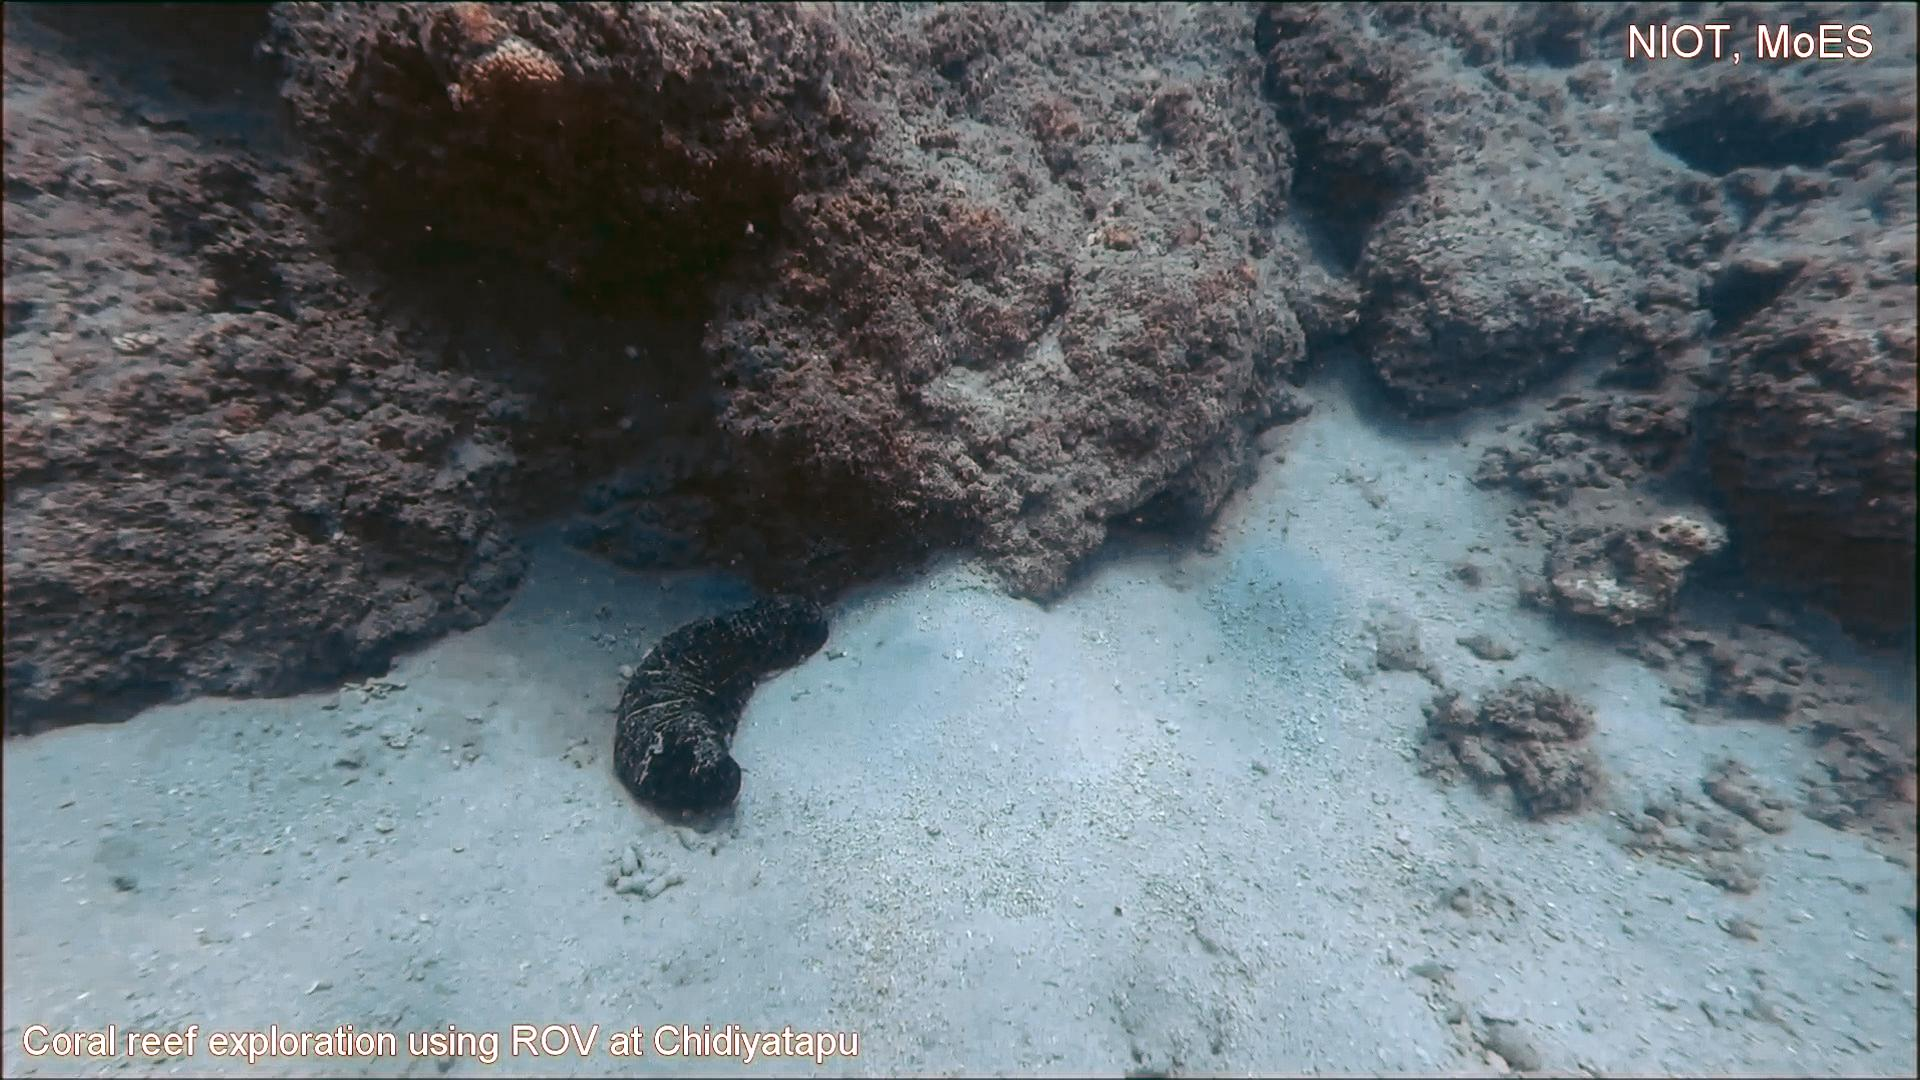Montastraea: (438, 30, 579, 140)
